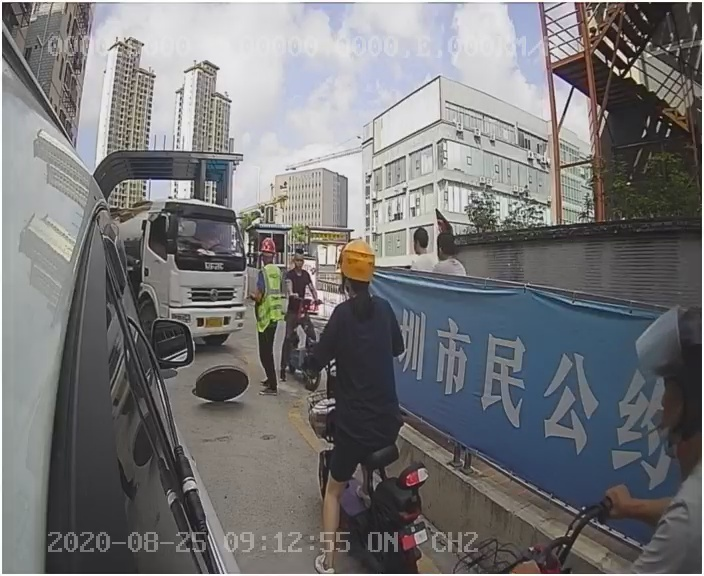person: (247, 238, 291, 395)
